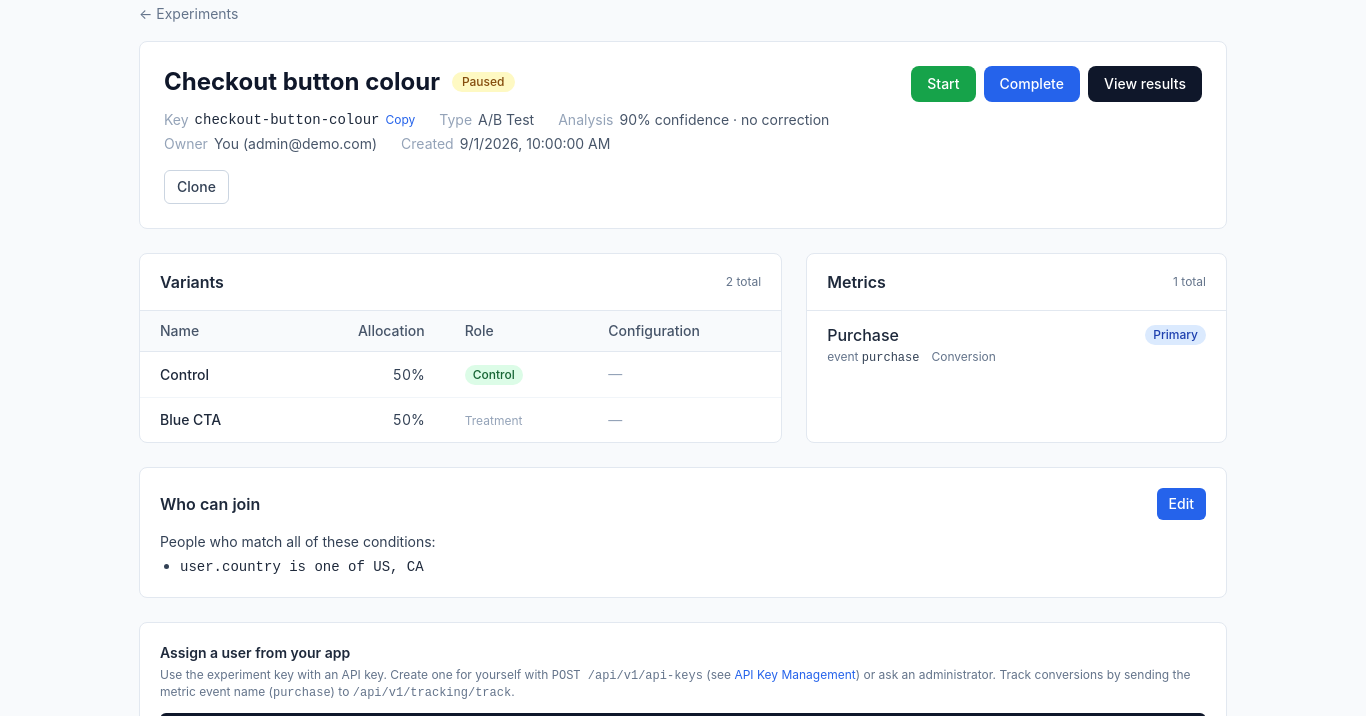
Who can join — saving › never sends the stored correction or confidence level in its PUT on a paused experiment
Expected: the text with test id "experiment-analysis" reads "90% confidence · no correction", [620,110,829,130]
Click the button "Edit" at point(1181, 504), box [1157,488,1206,520]
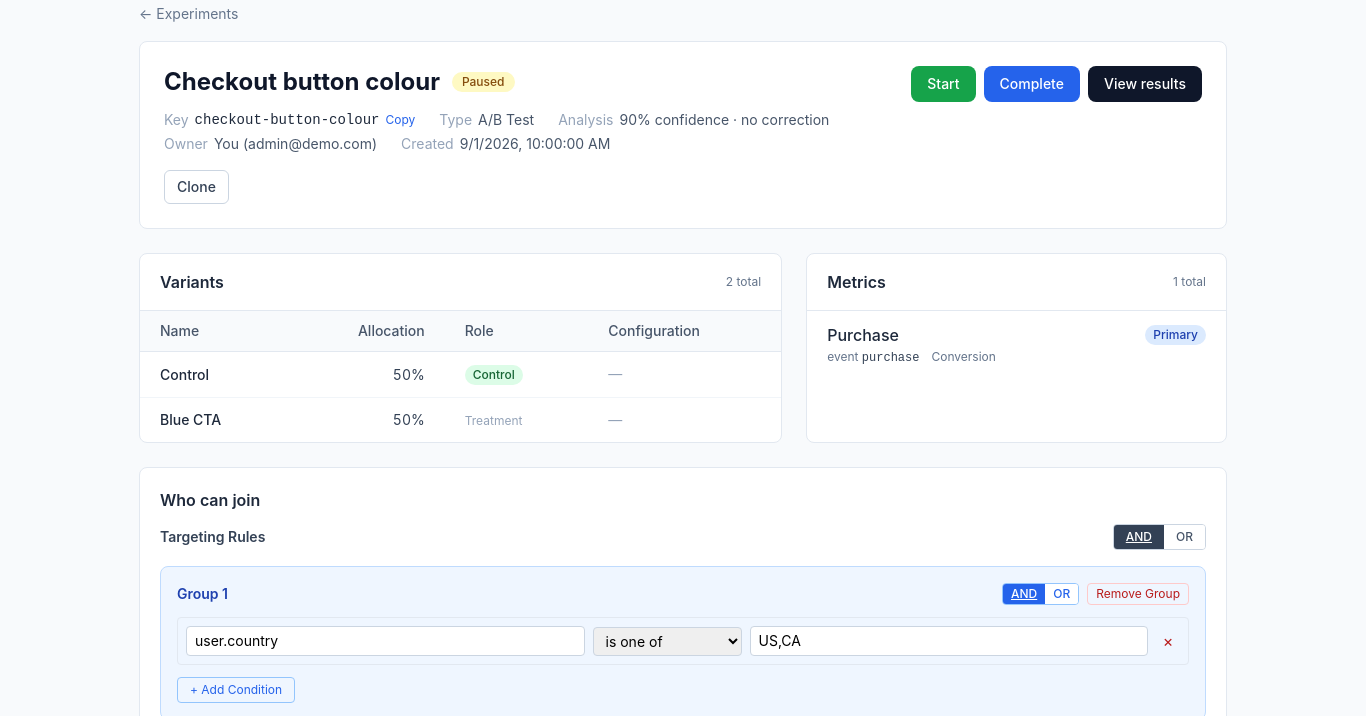
Replace the text in the field named "Group 1, condition 1 value" with "DE" at point(949, 641), box [750,626,1148,656]
(page scrolled)
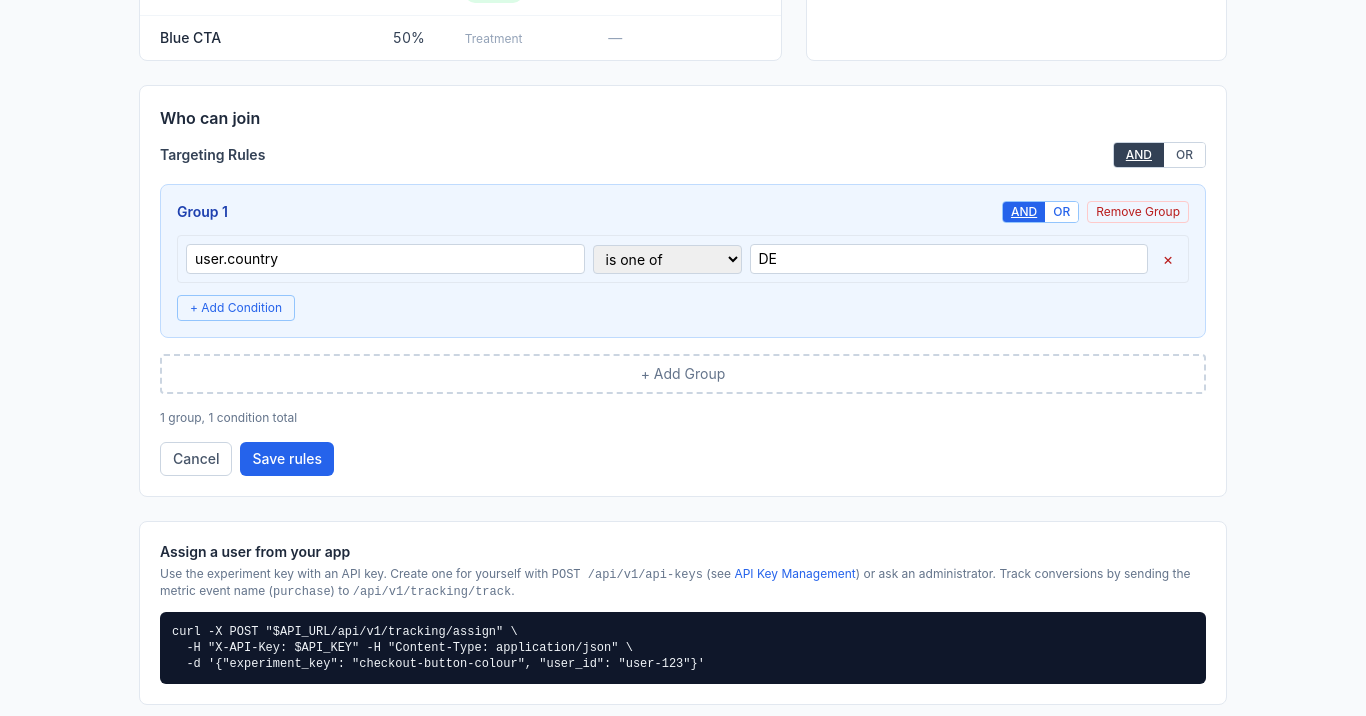
Click the button "Save rules" at point(287, 459), box [240,442,334,476]
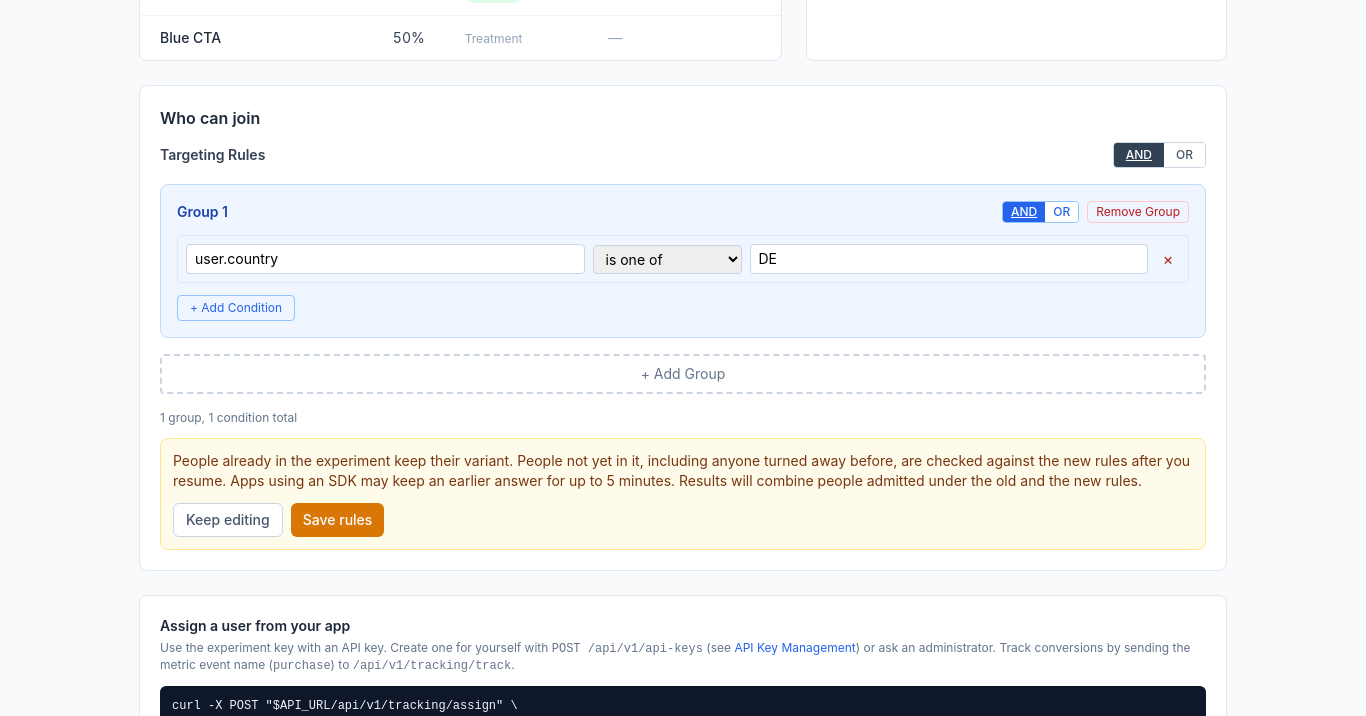
Click the button "Save rules" at point(338, 520), box [291,503,384,537]
(page scrolled)
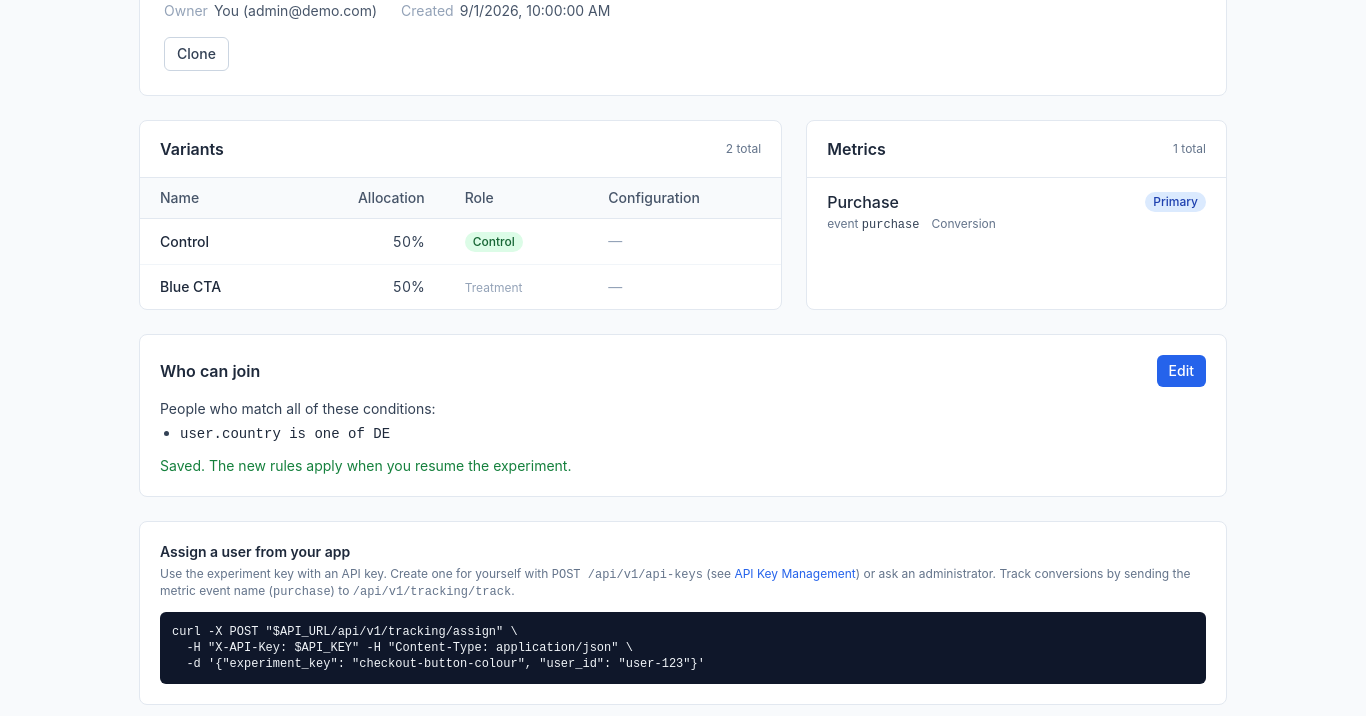
Expected: the text "Saved. The new rules apply when you resume the experiment." is shown, [160,457,572,474]
